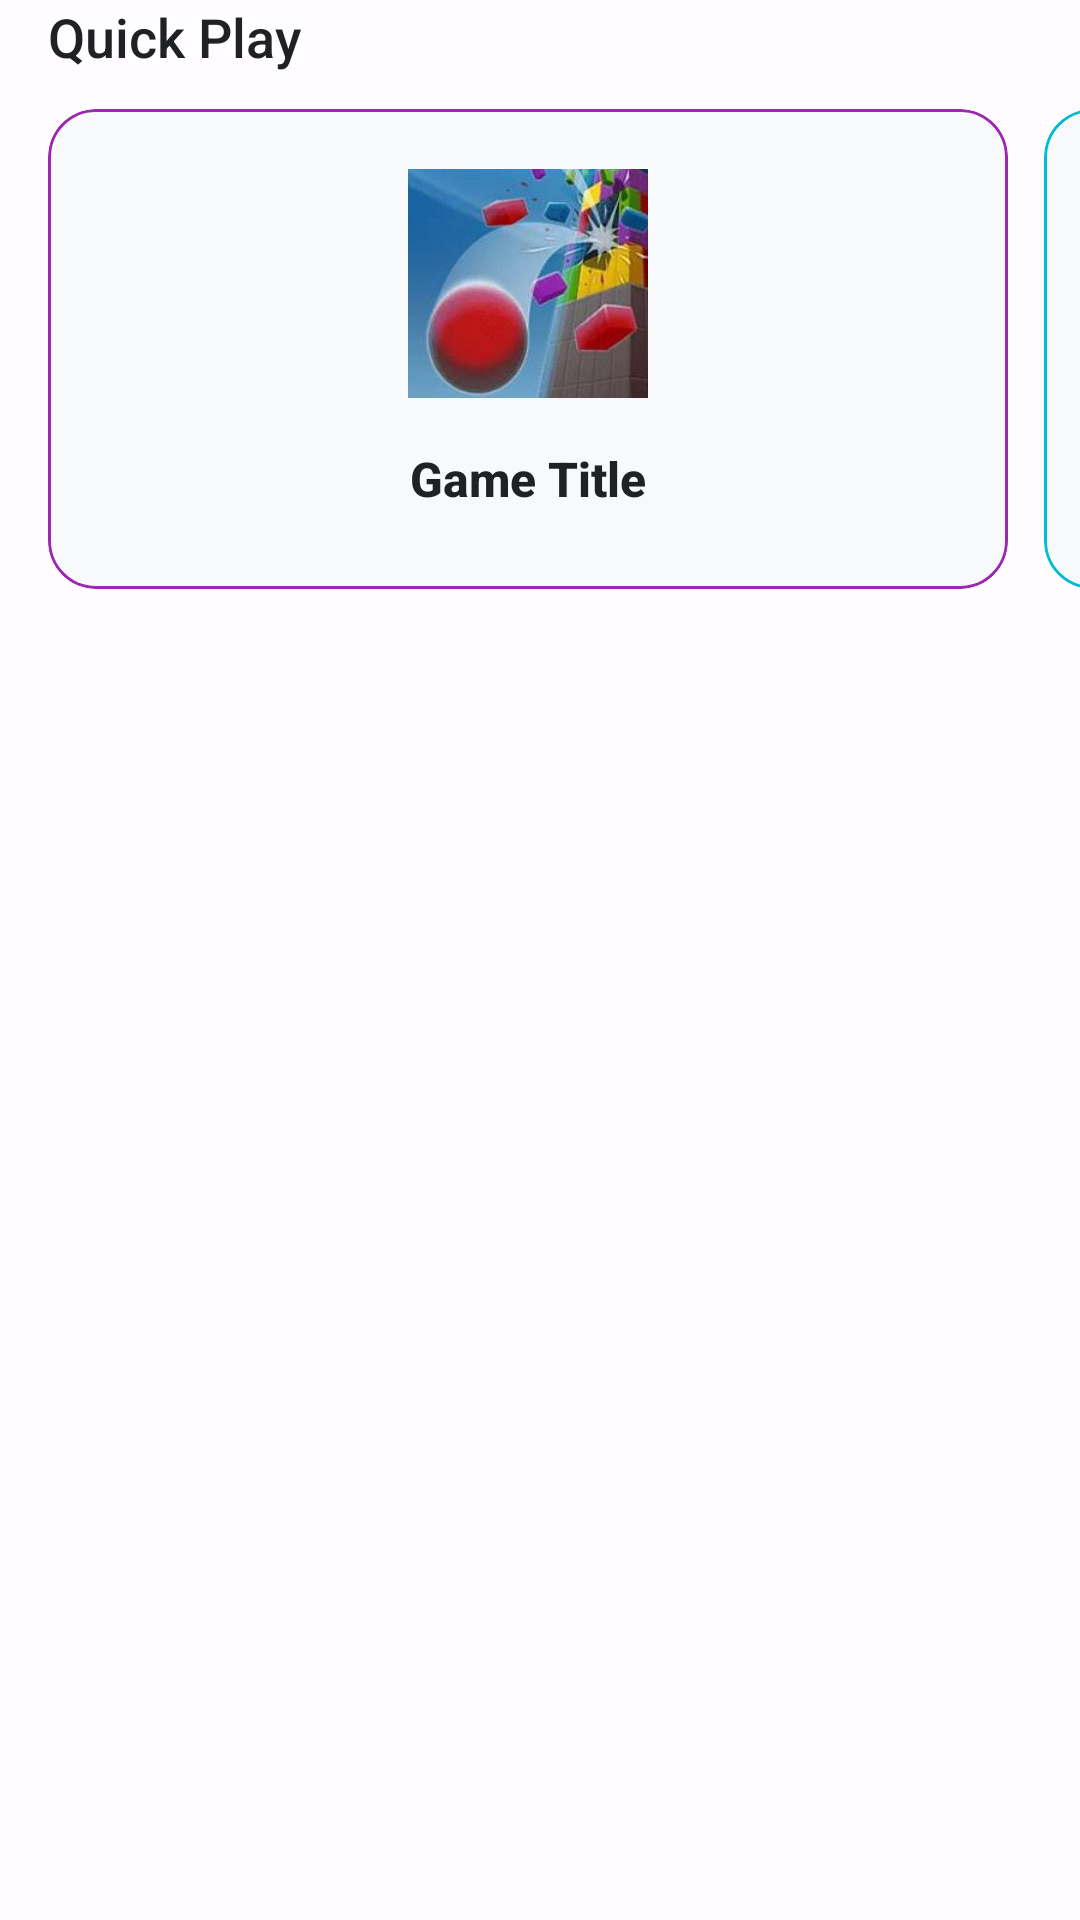

Icons on this 1080px x 1920px Android screen, each with the point to tap as point (x, y):
tower crash: point (528, 283)
